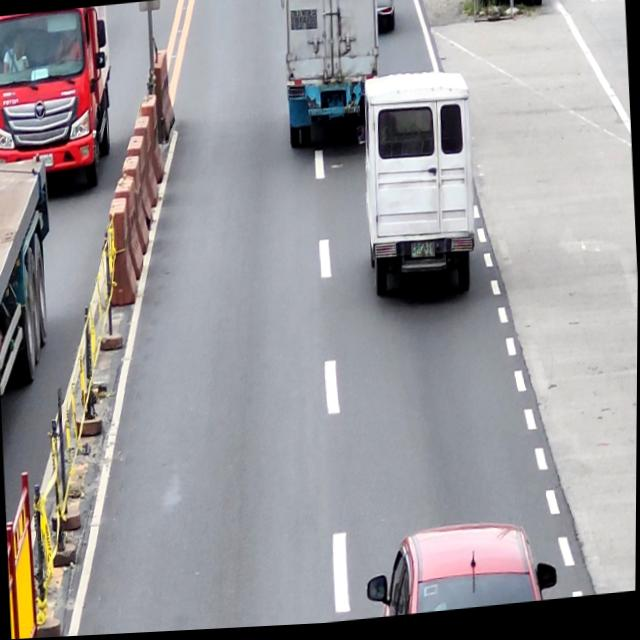Car: (350, 72, 480, 308), (368, 520, 558, 622)
License-Plate: (411, 245, 436, 265)
Truck: (277, 0, 385, 154)
